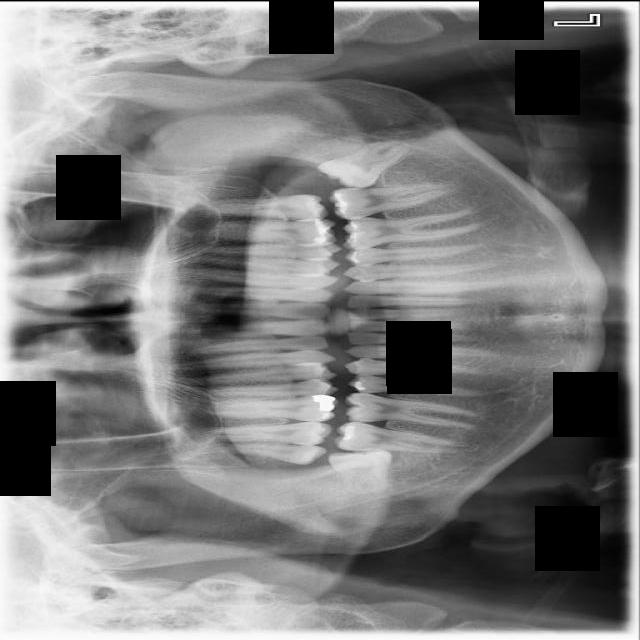3M ESPE Implant: (212, 442, 327, 464)
52: (328, 182, 371, 223), (293, 214, 338, 248), (296, 392, 340, 423), (343, 215, 383, 249), (348, 371, 387, 395), (345, 244, 379, 267)
73: (610, 11, 620, 23)
BioHorizons Implant: (196, 191, 326, 220)
Biomet 3i Implant: (314, 129, 420, 203)
Blue Sky Bio Implant: (330, 182, 456, 221)
Caries: (199, 415, 331, 445)
Implant: (334, 421, 451, 452)
Keystone Dental Implant: (325, 444, 393, 497)
